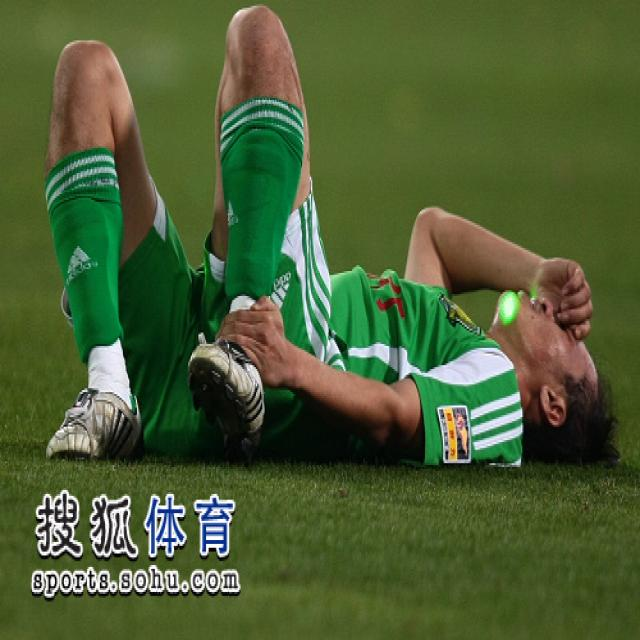fall: (42, 21, 599, 477)
